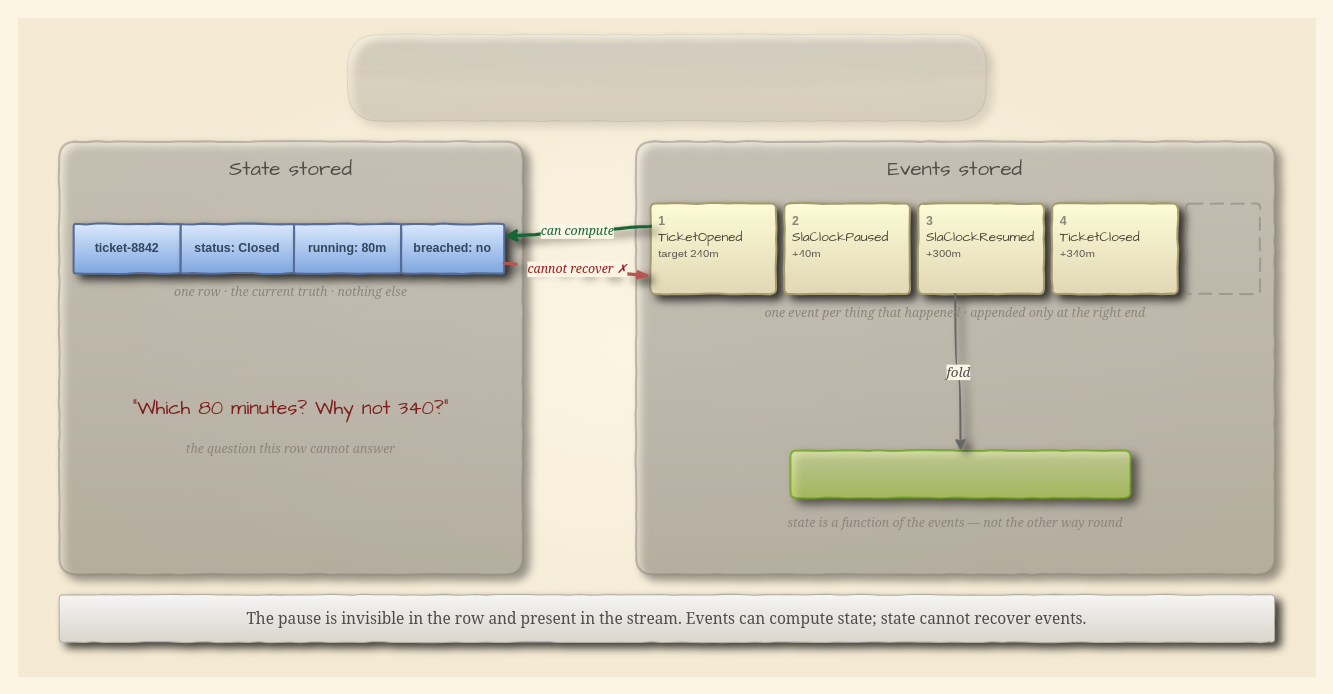
The diagram is 1333 pixels wide and 694 high, and some of its shapes have lost their labels. Here are the shapes that lost their labels. From the top down, the centre of each, then its label:
At [669,79]: "Two ways to remember the same ticket state stored · events stored".
At [1222,248]: "append →".
At [963,476]: "derived running 80m · within target".
